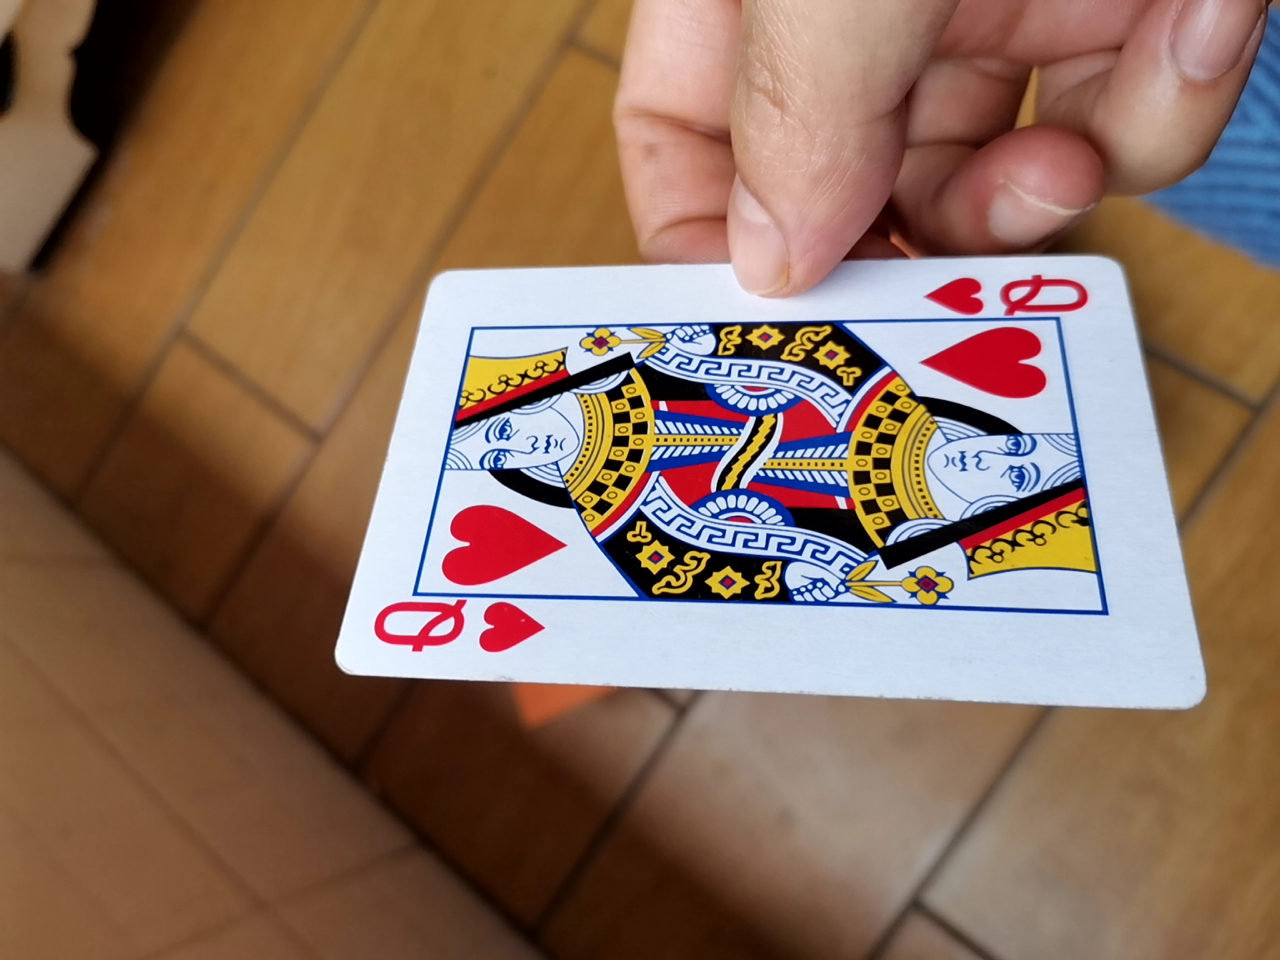hx q: (304, 248, 1197, 712)
